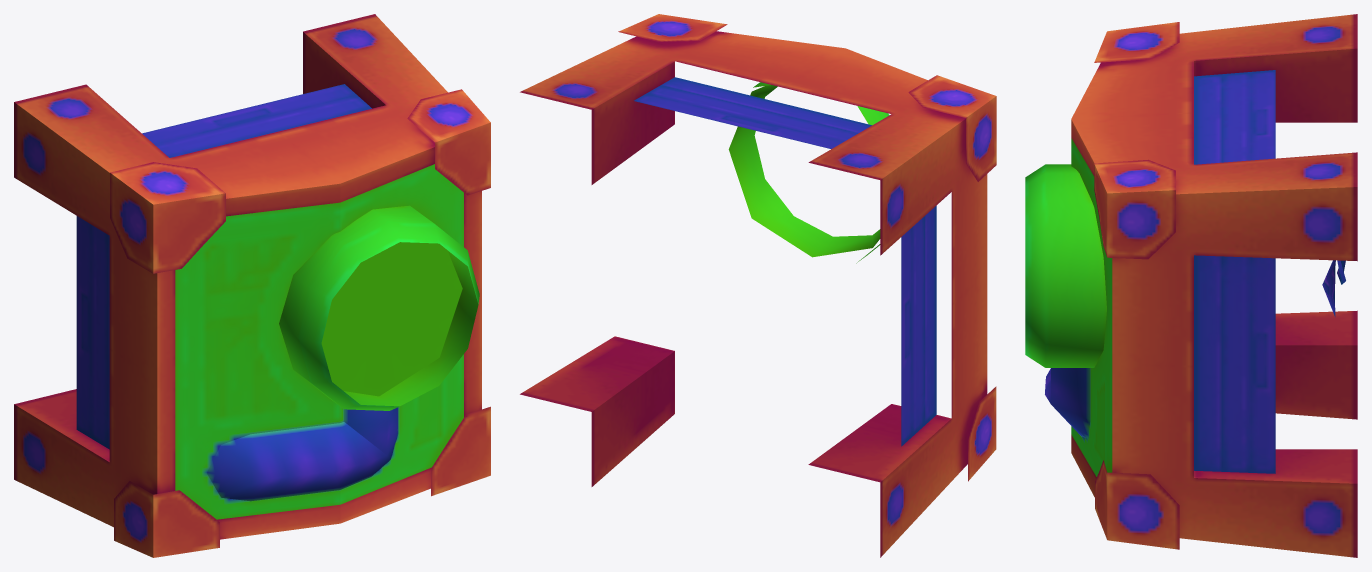
3 views of the same model, side by side, from view 1: azimuth 30°, elevation 25°; view 2: azimuth 150°, elevation 25°; view 3: azimuth 270°, elevation 25° (orthographic).
Parts seen in each view (by area): view 1: razor_garage.model-MeshNodes["mesh_garage"]; view 2: razor_garage.model-MeshNodes["mesh_garage"]; view 3: razor_garage.model-MeshNodes["mesh_garage"], razor_garage.model-MeshNodes["mesh_fan"].
Part boxes in pixels (bbox=[...]): razor_garage.model-MeshNodes["mesh_garage"]: bbox=[14, 14, 490, 557]; razor_garage.model-MeshNodes["mesh_garage"]: bbox=[520, 14, 996, 557]; razor_garage.model-MeshNodes["mesh_garage"]: bbox=[1025, 14, 1357, 557]; razor_garage.model-MeshNodes["mesh_fan"]: bbox=[1322, 260, 1345, 316].
Bounding box in the file's own units: 1.25 × 1.25 × 1.02.
Materials: 1 (1 with a texture image).
